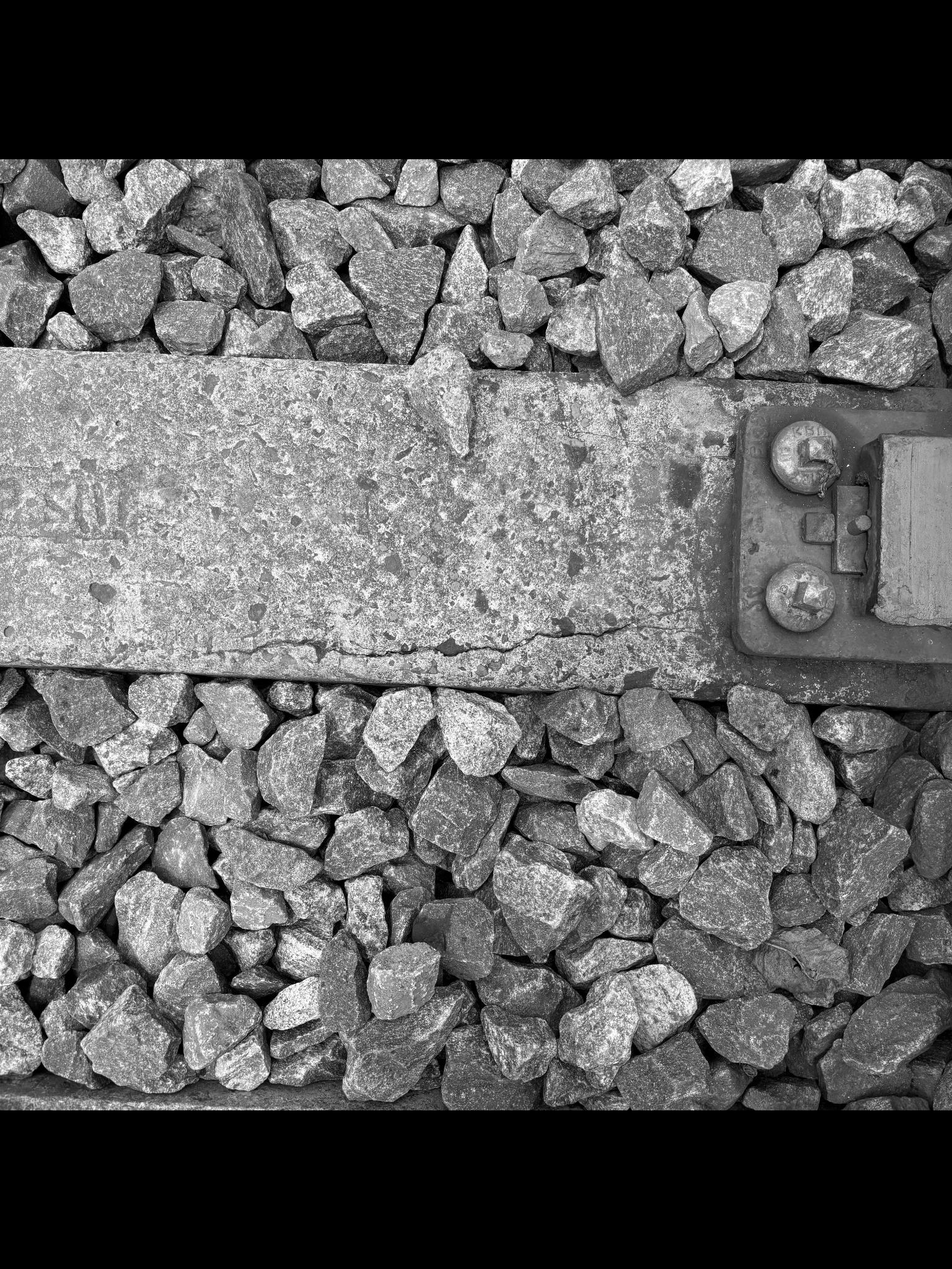cracks under rail seat: (145, 591, 737, 669)
